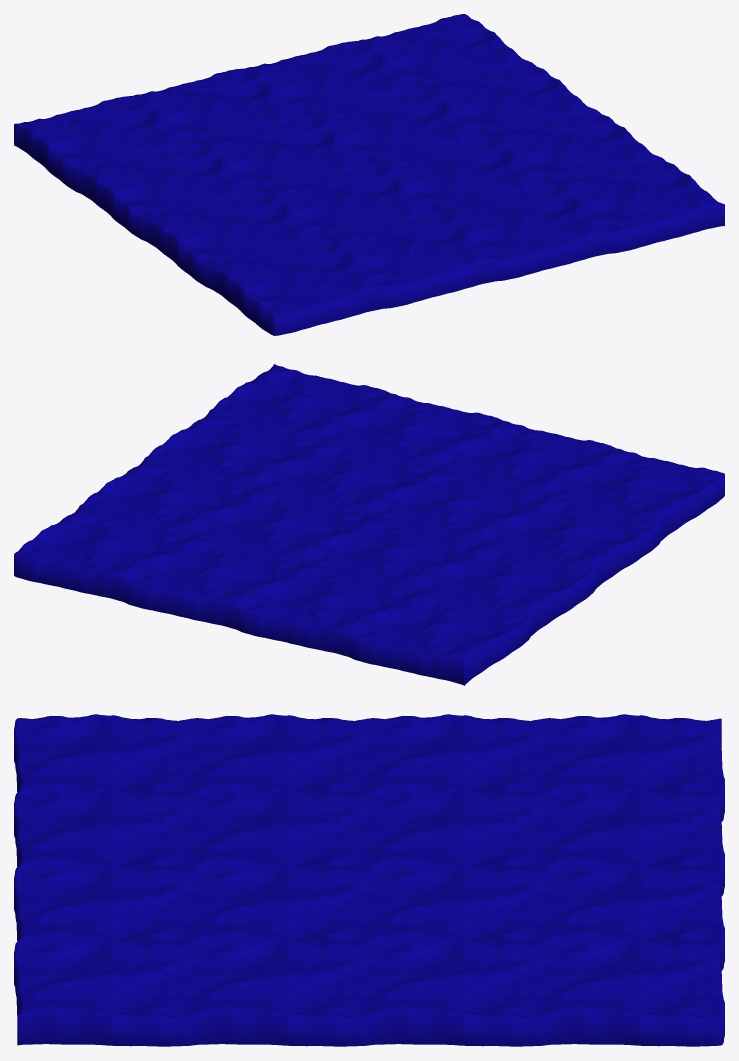
Rendered from water.glb.
3 renders of one model, top to bottom at view 1: azimuth 30°, elevation 25°; view 2: azimuth 150°, elevation 25°; view 3: azimuth 270°, elevation 25°, orthographic. The views are drawn at different scales.
Parts seen in each view (by area): view 1: WATER_GLASS; view 2: WATER_GLASS; view 3: WATER_GLASS.
Part boxes in pixels (x1=…): WATER_GLASS: x1=14, y1=14, x2=724, y2=335; WATER_GLASS: x1=14, y1=364, x2=724, y2=685; WATER_GLASS: x1=14, y1=714, x2=724, y2=1046.
Size of what is drawn, in the model's own units: 5.73 by 0.303 by 5.73.
